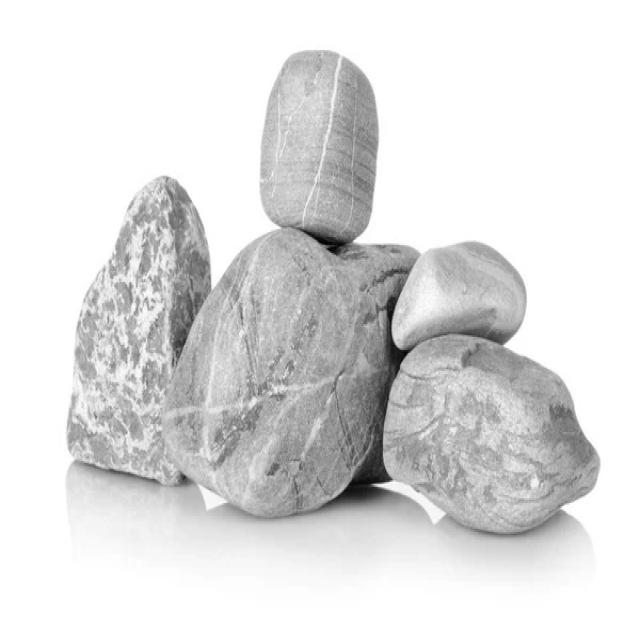Stone: (163, 229, 418, 517), (66, 176, 211, 486), (384, 336, 601, 534), (261, 54, 380, 244), (392, 242, 527, 349)
